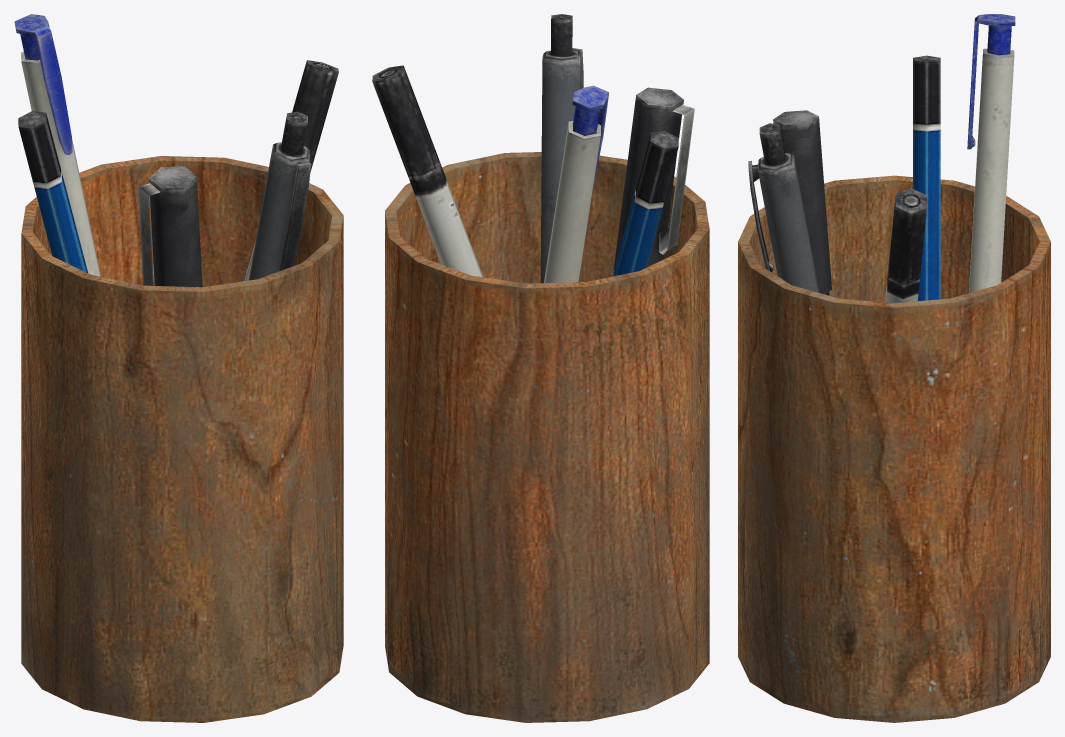
The model's file is sm36_031_penholder01.fbx.
3 views of the same model, side by side, from view 1: azimuth 30°, elevation 25°; view 2: azimuth 150°, elevation 25°; view 3: azimuth 270°, elevation 25° (orthographic). The views are drawn at different scales.
Visible parts, largest first — view 1: LOD_1_Group_0_Sub_1__sm36_031_Penholder01A_E_Mat; view 2: LOD_1_Group_0_Sub_1__sm36_031_Penholder01A_E_Mat; view 3: LOD_1_Group_0_Sub_1__sm36_031_Penholder01A_E_Mat.
Part boxes in pixels (bbox=[...]): LOD_1_Group_0_Sub_1__sm36_031_Penholder01A_E_Mat: bbox=[14, 14, 343, 722]; LOD_1_Group_0_Sub_1__sm36_031_Penholder01A_E_Mat: bbox=[372, 14, 709, 722]; LOD_1_Group_0_Sub_1__sm36_031_Penholder01A_E_Mat: bbox=[738, 14, 1050, 722].
Size of the model in its own units: 0.0728 by 0.1381 by 0.0657.
